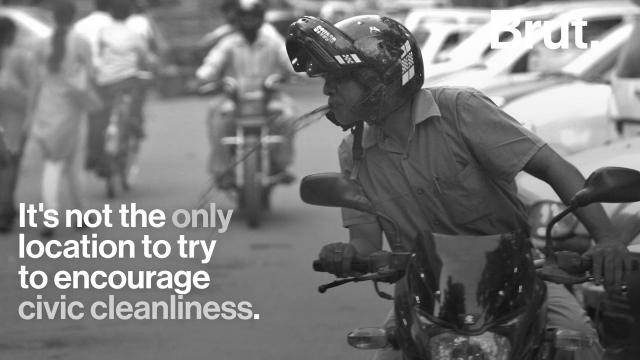spit: (189, 73, 359, 198)
